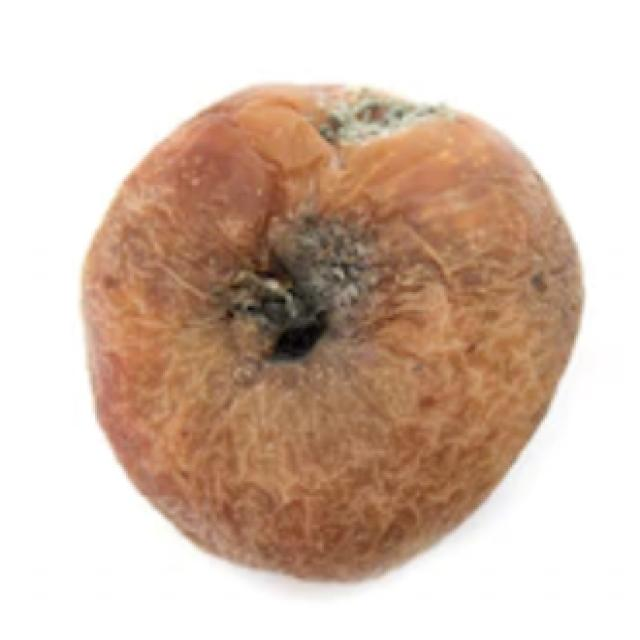rotten_apple: (82, 80, 584, 580)
